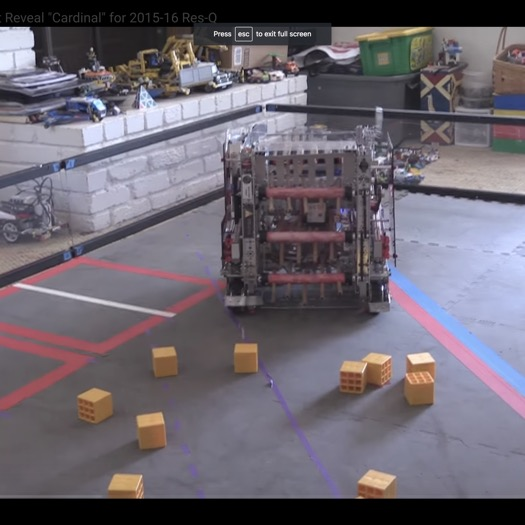robot: (215, 116, 398, 318)
